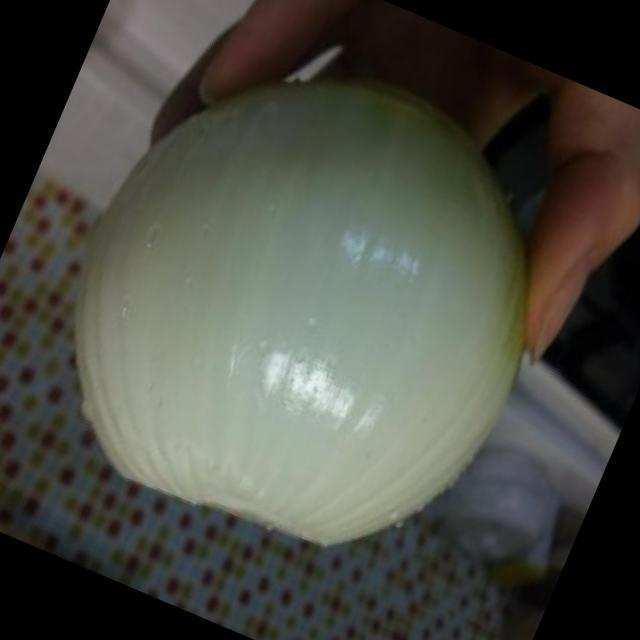Onion: (81, 86, 530, 540)
